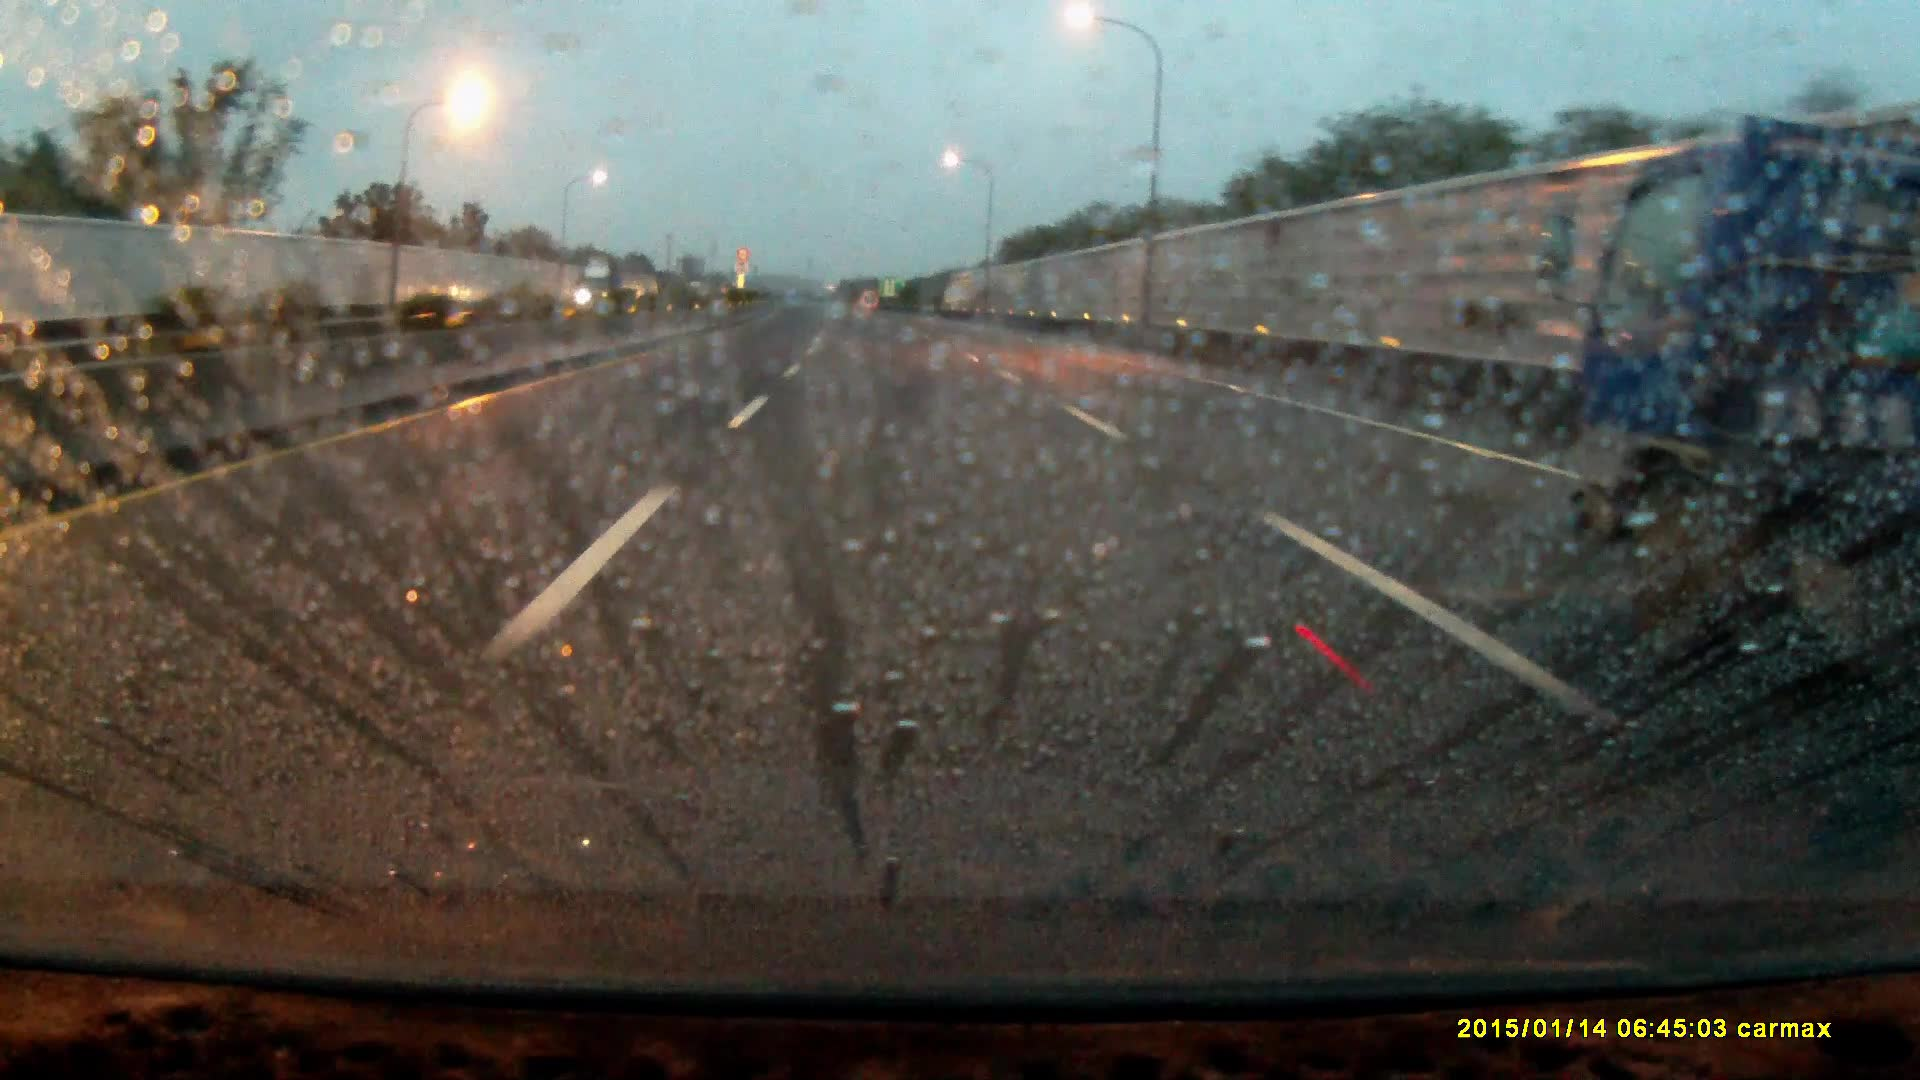vehicle: (1569, 141, 1920, 607), (580, 265, 625, 310)
